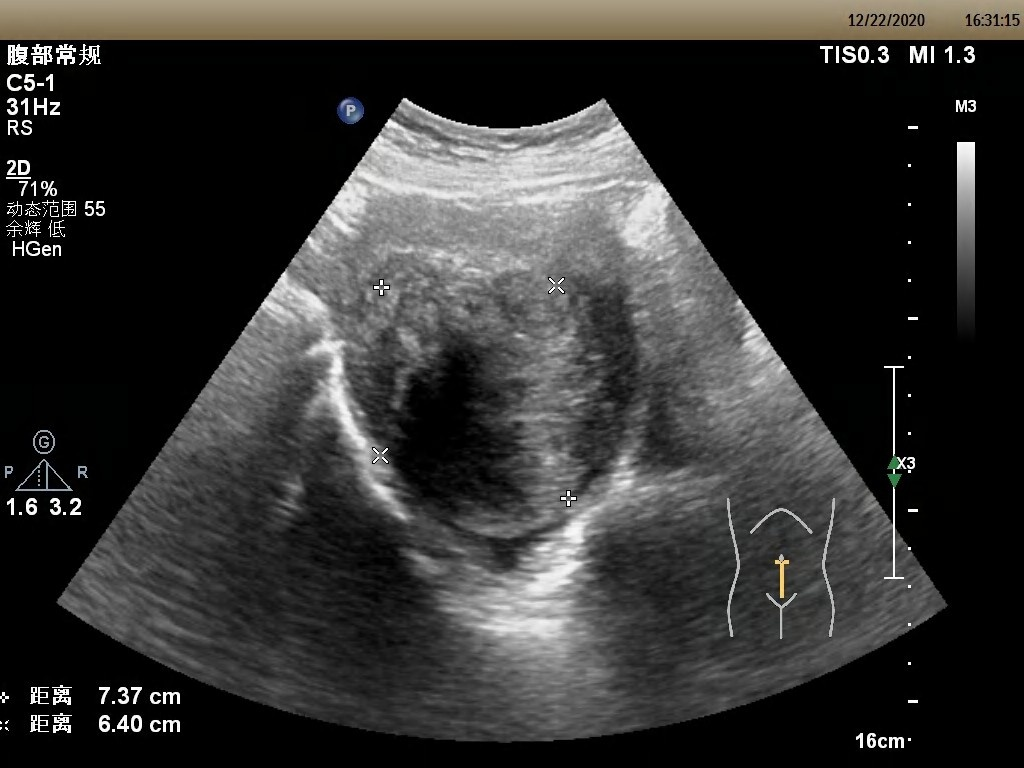肌瘤: (380, 280, 568, 488)
